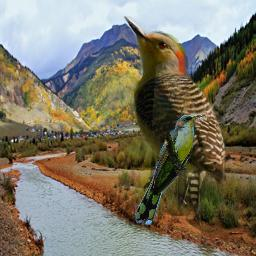Cuckoo: (135, 115, 202, 225)
Woodpecker: (123, 16, 226, 218)
